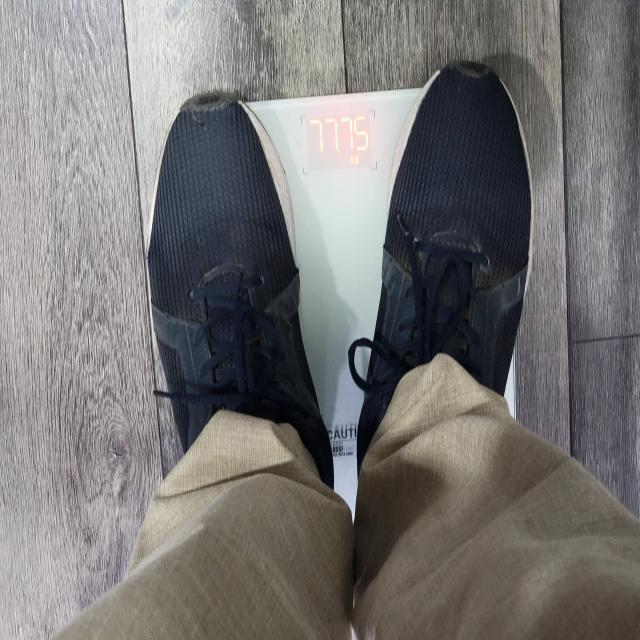ws: (242, 87, 432, 470)
